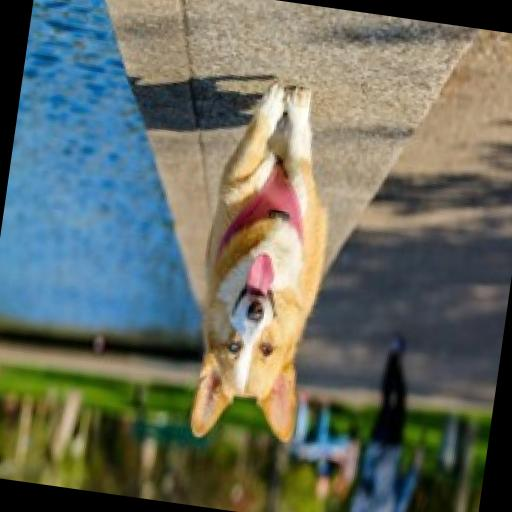dog: (167, 0, 370, 461)
